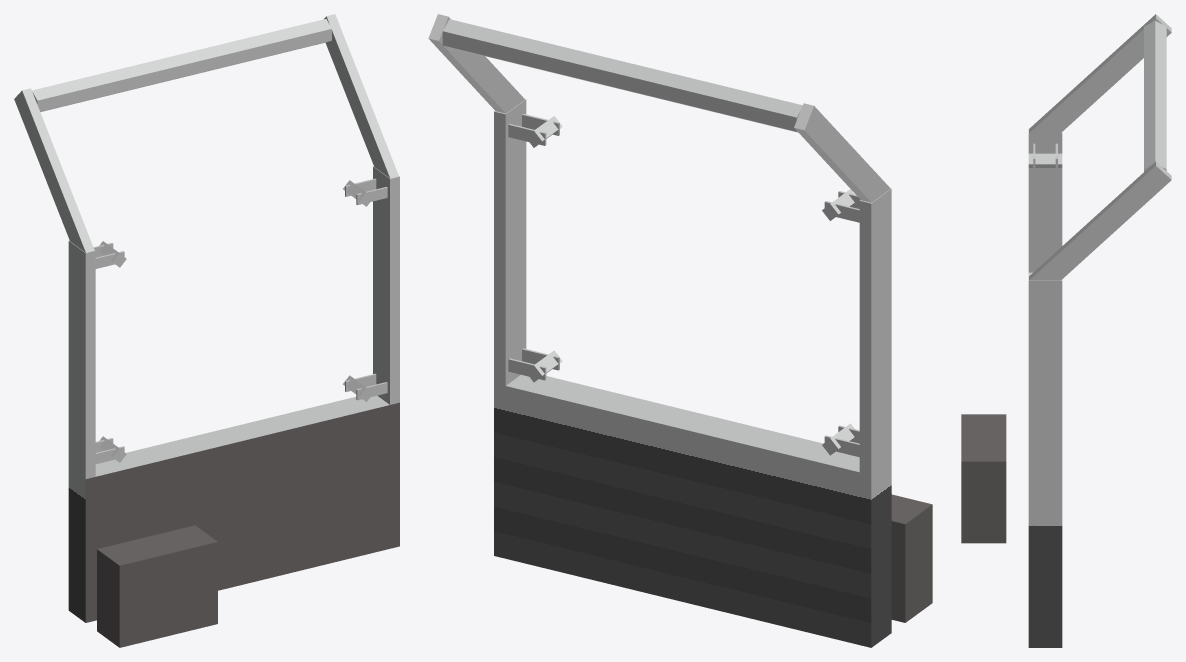
File: electric_fence_wall_right.obj
The picture shows the model from 3 angles, left to right: view 1: azimuth 30°, elevation 25°; view 2: azimuth 150°, elevation 25°; view 3: azimuth 270°, elevation 25°; orthographic projection. The views are drawn at different scales.
Parts seen in each view (by area): view 1: wall_l; view 2: wall_l; view 3: wall_l.
Boxes of the visible parts, x1,y1,x2,y2 form: wall_l: (14, 14, 399, 647); wall_l: (428, 14, 932, 647); wall_l: (961, 14, 1171, 647).
Bounding box in the file's own units: 1 × 1.48 × 0.585.
